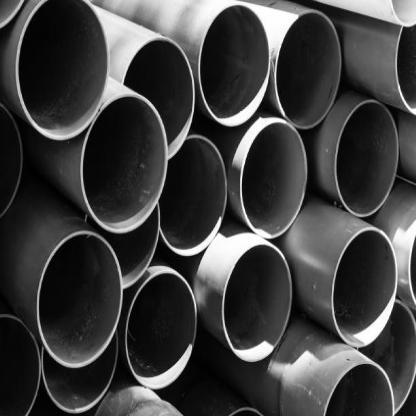pipe: (14, 0, 110, 140), (80, 93, 168, 233), (36, 230, 123, 368), (198, 3, 271, 127), (122, 37, 195, 159), (124, 270, 198, 390), (222, 242, 293, 362), (160, 134, 228, 258), (240, 120, 308, 238), (275, 10, 342, 128), (332, 227, 398, 346), (334, 99, 400, 217), (42, 329, 120, 414), (322, 362, 395, 415)
